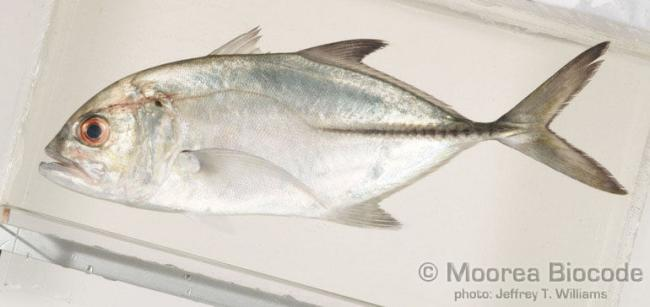fish: (38, 26, 630, 228)
